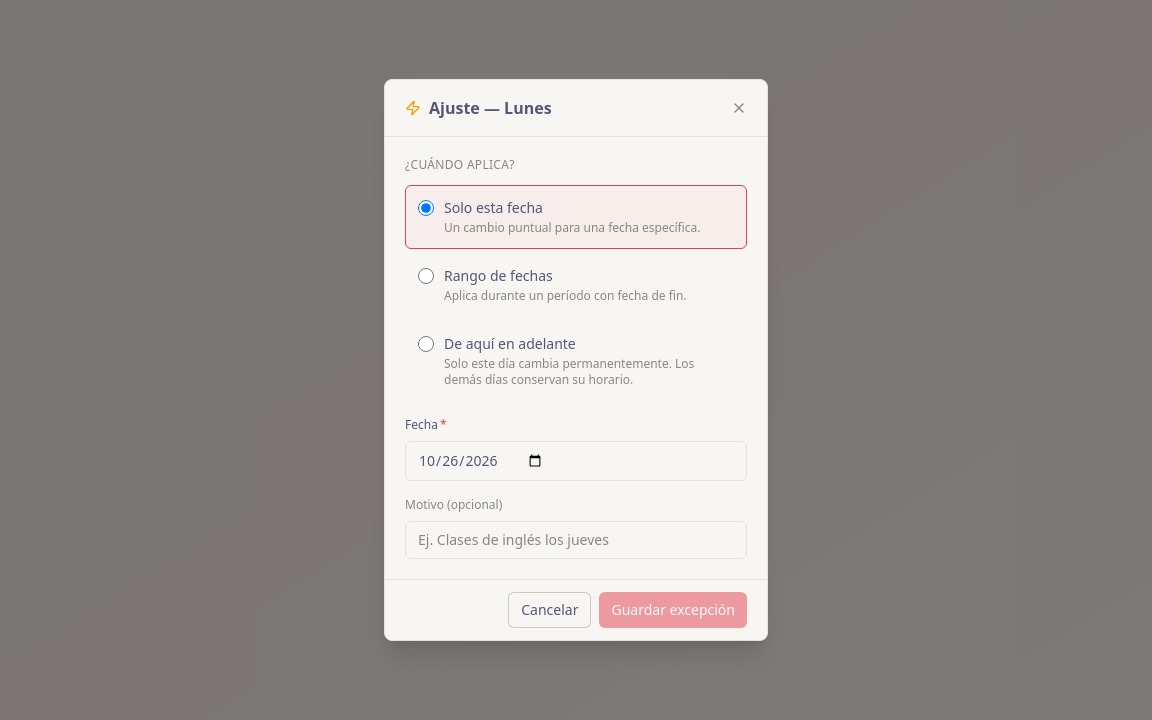
Test case: OverrideScopeDialog › shows "A partir de" label for range scope
What coordinates should you click on to do the following:
click the radio button labelled "Rango de fechas Aplica durante un período con fecha de fin."
I would click on:
 (426, 276)
Its box is [418,268,434,284].
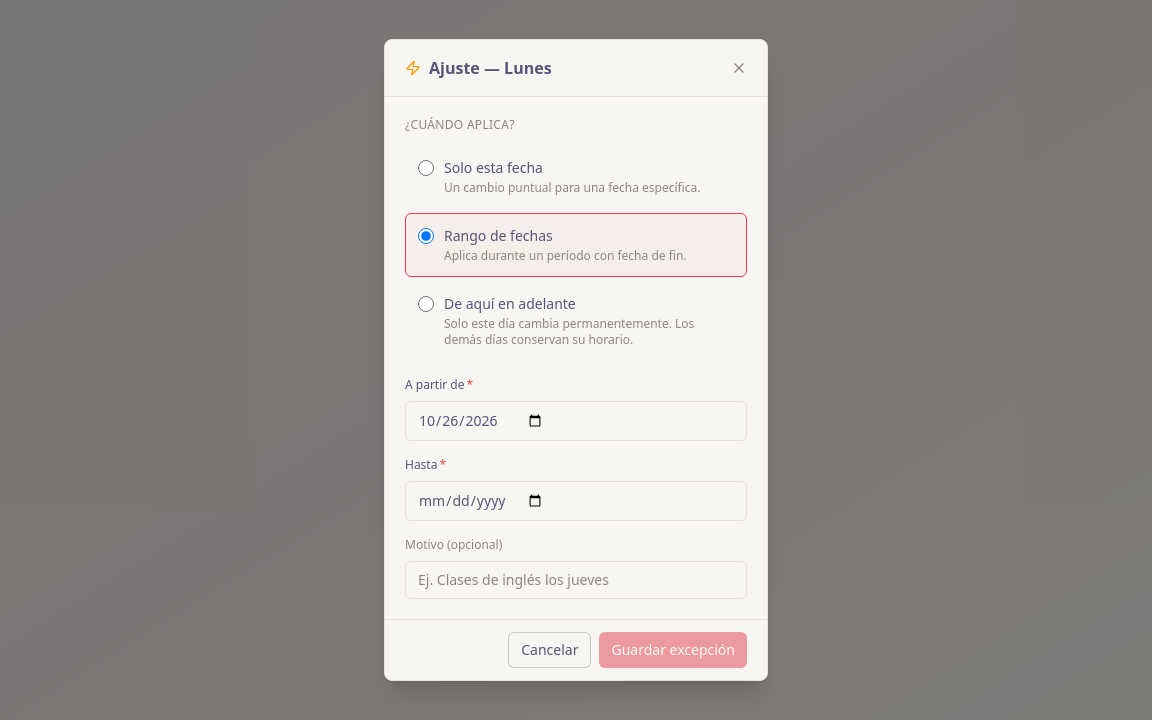
Now the text "A partir de" is shown, box [405,376,464,393]
